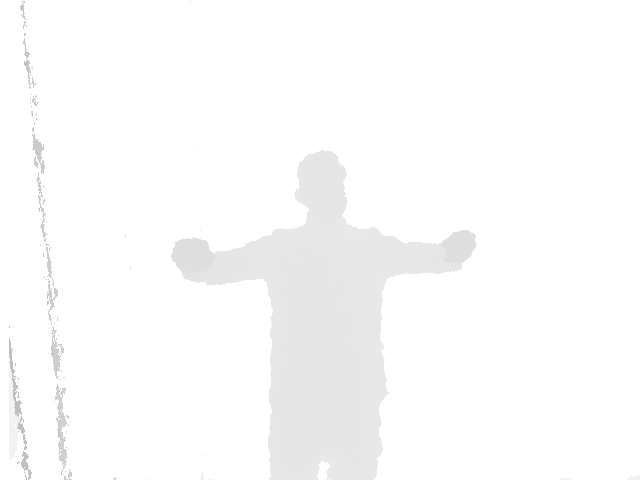head: (295, 150, 348, 216)
person: (171, 150, 476, 480)
